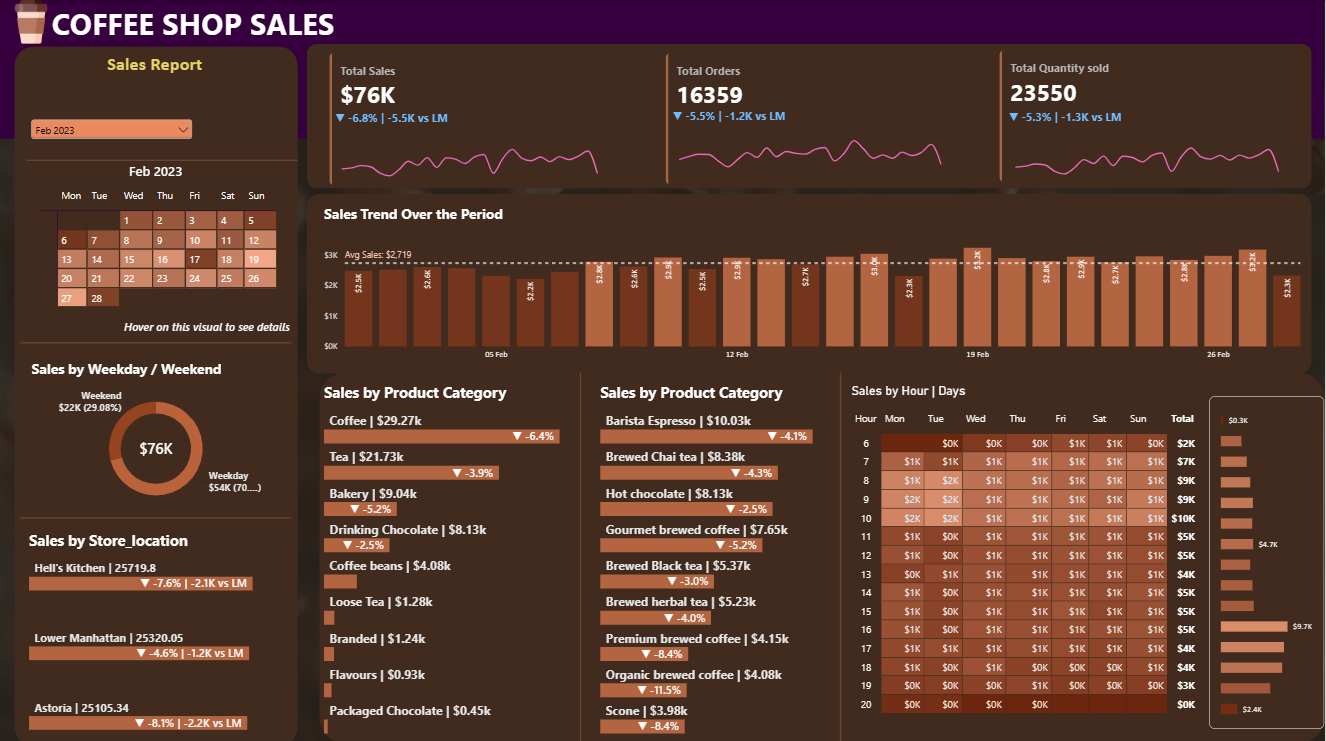

The dashboard page shown, as its layout file describes it:
{"tool":"powerbi","page":{"name":"Page 1","canvas":[1920,1080],"ordinal":0},"visuals":[{"type":"shape","box":[0,0,1920.1,200.9],"z":0},{"type":"cardVisual","fields":{"Data":["Transactions.Total Quantity sold"]},"box":[1448.8,72.4,432,192],"z":0,"group":"g3"},{"type":"cardVisual","fields":{"Data":["Transactions.Total Sales"]},"box":[479.4,76,421.2,193.6],"z":0,"group":"g1"},{"type":"cardVisual","fields":{"Data":["Transactions.Total Orders"]},"box":[967,76,430.2,192.7],"z":0,"group":"g2"},{"type":"shape","box":[23.5,67,410.8,1013.4],"z":1000},{"type":"lineChart","fields":{"Category":["Date Table.Date.Variation.Date Hierarchy.Year","Date Table.Date.Variation.Date Hierarchy.Quarter","Date Table.Date.Variation.Date Hierarchy.Month","Date Table.Date.Variation.Date Hierarchy.Day"],"Y":["Transactions.Total Orders"]},"box":[960.9,141.2,430.2,133.3],"z":1000,"group":"g2"},{"type":"lineChart","fields":{"Y":["Transactions.Total Sales"],"Category":["Date Table.Date.Variation.Date Hierarchy.Year","Date Table.Date.Variation.Date Hierarchy.Quarter","Date Table.Date.Variation.Date Hierarchy.Month","Date Table.Date.Variation.Date Hierarchy.Day"]},"box":[1447.7,142.3,432,132.8],"z":1000,"group":"g3"},{"type":"lineChart","fields":{"Y":["Transactions.Total Sales"],"Category":["Date Table.Date.Variation.Date Hierarchy.Year","Date Table.Date.Variation.Date Hierarchy.Quarter","Date Table.Date.Variation.Date Hierarchy.Month","Date Table.Date.Variation.Date Hierarchy.Day"]},"box":[472.3,145.5,421.2,133.9],"z":1000,"group":"g1"},{"type":"shape","box":[447,63.3,1455,209.9],"z":2000},{"type":"textbox","box":[77.8,3.6,416.2,63.3],"z":3000},{"type":"slicer","fields":{"Values":["Date Table.Month Year"]},"box":[43.4,168.3,242.5,56.1],"z":4000},{"type":"group","id":"g1","title":"Group 1","box":[472.3,76,427.1,202.7],"z":5000},{"type":"group","id":"g2","title":"Group 1","box":[960.9,76,436.1,199.1],"z":6000},{"type":"group","id":"g3","title":"Group 1","box":[1447.7,72.4,434.3,202.7],"z":7000},{"type":"pivotTable","fields":{"Rows":["Date Table.Week Number"],"Columns":["Date Table.Day Name"],"Values":["Min(Date Table.Day Number)"]},"box":[44,256,378,216],"z":8000},{"type":"cardVisual","fields":{"Data":["Min(Date Table.Month Year)"]},"box":[174,224,119.4,45.2],"z":9000},{"type":"cardVisual","fields":{"Data":["Transactions.Foot Note"]},"box":[166,456,275.1,32.6],"z":10000},{"type":"shape","box":[32,472,392,48],"z":11000},{"type":"donutChart","title":"Sales by Weekday / Weekend","fields":{"Category":["Date Table.Weekday / Weekend"],"Y":["Transactions.Total Sales"]},"box":[32,504,392,248],"z":12000},{"type":"clusteredBarChart","title":"Sales by Store_location","fields":{"Category":["Transactions.store_location"],"Y":["Transactions.Placeholder","Transactions.Total Sales"]},"box":[28.4,752.6,409.5,328],"z":13000},{"type":"shape","box":[42,208,392,48],"z":14000},{"type":"shape","box":[447,280.5,1455,260.6],"z":15000},{"type":"columnChart","title":"Sales Trend Over the Period","fields":{"Category":["Transactions.transaction_date"],"Y":["Transactions.Total Sales"]},"box":[456,280.5,1445.9,260.6],"z":16000},{"type":"shape","box":[32.2,726.1,392,48],"z":17000},{"type":"shape","box":[465.1,539.3,1455,537.5],"z":18000},{"type":"clusteredBarChart","title":"Sales by Product Category","fields":{"Y":["Transactions.Placeholder","Transactions.Total Sales"],"Category":["Transactions.product_category"]},"box":[456,539.3,399.9,539.3],"z":19000},{"type":"shape","box":[830.6,539.3,25.3,537.5],"z":20000},{"type":"clusteredBarChart","title":"Sales by Product Category","fields":{"Y":["Transactions.Placeholder","Transactions.Total Sales"],"Category":["Transactions.product_type"]},"box":[856,539.3,399.9,539.3],"z":21000},{"type":"shape","box":[1206.2,539.3,25.3,537.5],"z":22000},{"type":"pivotTable","title":"Sales by Hour | Days","fields":{"Rows":["Transactions.Hour"],"Columns":["Date Table.Day Name"],"Values":["Transactions.Total Sales"]},"box":[1219.7,541.1,533.8,535.7],"z":23000},{"type":"barChart","title":" Sales by Hour","fields":{"Category":["Transactions.Hour"],"Y":["Transactions.Total Sales"]},"box":[1753.6,573.7,166.5,481.4],"z":24000},{"type":"textbox","box":[77.8,76,298.6,68.8],"z":24001},{"type":"image","box":[0,0,95.9,63.3],"z":24002}]}

Visuals, with their boxes in screenshot pixels (x1, y1, x2, y2), scaled from the page's 1920x1080 canvas onto the 1326x741 screenshot:
shape: box(0, 0, 1325, 138)
cardVisual - Transactions.Total Quantity sold: box(1001, 50, 1299, 181)
cardVisual - Transactions.Total Sales: box(331, 52, 622, 185)
cardVisual - Transactions.Total Orders: box(668, 52, 965, 184)
shape: box(16, 46, 300, 740)
lineChart - Date Table.Date.Variation.Date Hierarchy.Year x Date Table.Date.Variation.Date Hierarchy.Quarter: box(664, 97, 961, 188)
lineChart - Transactions.Total Sales x Date Table.Date.Variation.Date Hierarchy.Year: box(1000, 98, 1298, 189)
lineChart - Transactions.Total Sales x Date Table.Date.Variation.Date Hierarchy.Year: box(326, 100, 617, 192)
shape: box(309, 43, 1314, 187)
textbox: box(54, 2, 341, 46)
slicer - Date Table.Month Year: box(30, 115, 197, 154)
"Group 1" group: box(326, 52, 621, 191)
"Group 1" group: box(664, 52, 965, 189)
"Group 1" group: box(1000, 50, 1300, 189)
pivotTable - Date Table.Week Number x Date Table.Day Name: box(30, 176, 291, 324)
cardVisual - Min(Date Table.Month Year): box(120, 154, 203, 185)
cardVisual - Transactions.Foot Note: box(115, 313, 305, 335)
shape: box(22, 324, 293, 357)
"Sales by Weekday / Weekend" donutChart: box(22, 346, 293, 516)
"Sales by Store_location" clusteredBarChart: box(20, 516, 302, 740)
shape: box(29, 143, 300, 176)
shape: box(309, 192, 1314, 371)
"Sales Trend Over the Period" columnChart: box(315, 192, 1313, 371)
shape: box(22, 498, 293, 531)
shape: box(321, 370, 1325, 739)
"Sales by Product Category" clusteredBarChart: box(315, 370, 591, 740)
shape: box(574, 370, 591, 739)
"Sales by Product Category" clusteredBarChart: box(591, 370, 867, 740)
shape: box(833, 370, 851, 739)
"Sales by Hour | Days" pivotTable: box(842, 371, 1211, 739)
" Sales by Hour" barChart: box(1211, 394, 1325, 724)
textbox: box(54, 52, 260, 99)
image: box(0, 0, 66, 43)
